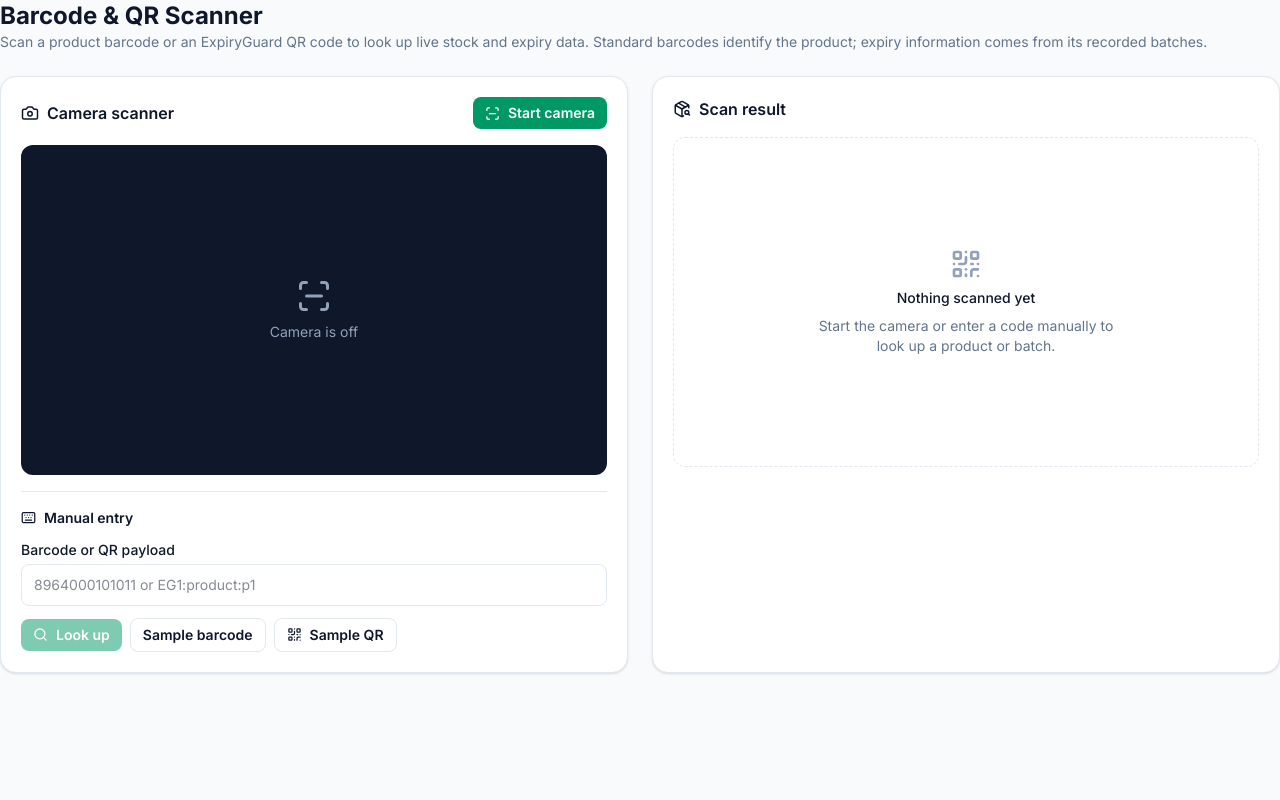
Test: ScannerPage › reports unknown barcodes clearly
Check: the text "Nothing scanned yet" is shown, box 897,288 -> 1035,308
Type "0000000000000" into the field labelled "Barcode or QR payload" at point(314, 585), box 21,564 -> 607,606
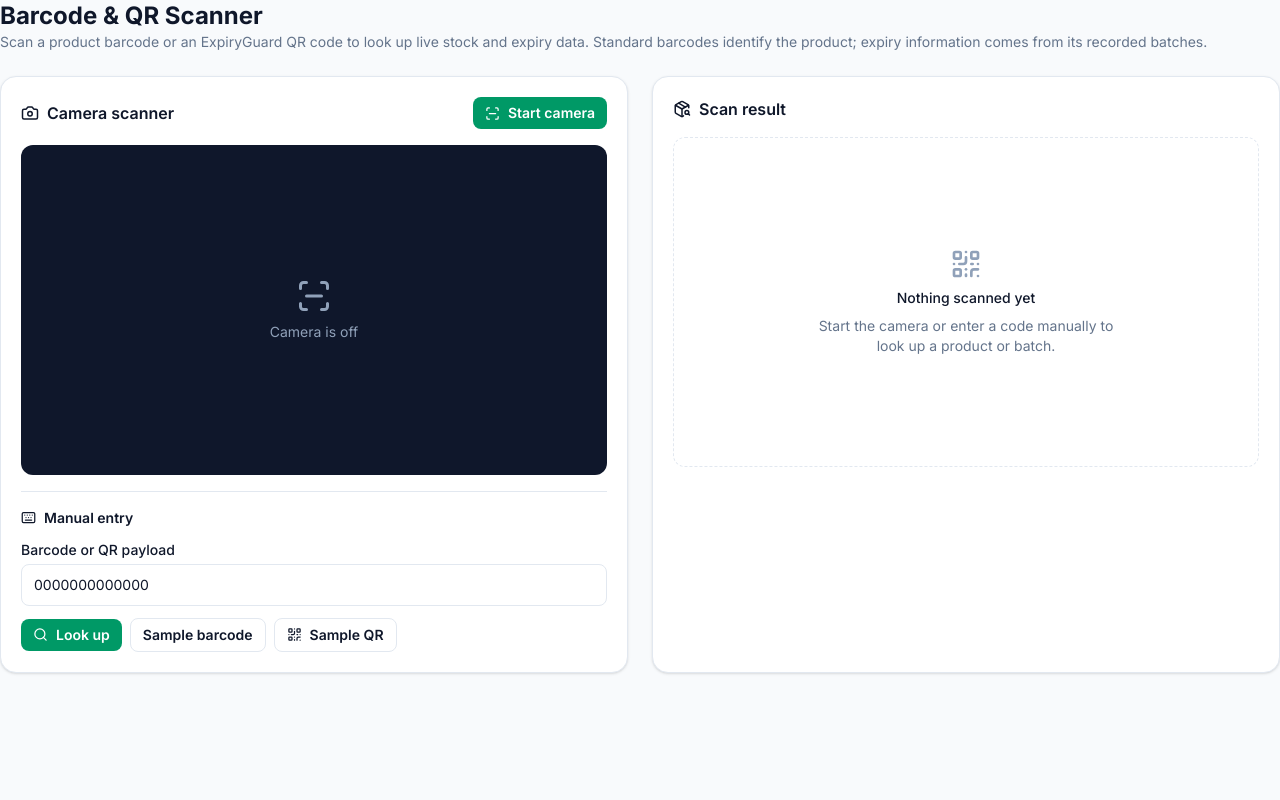
Click the button "Look up" at point(71, 635), box 21,619 -> 122,651
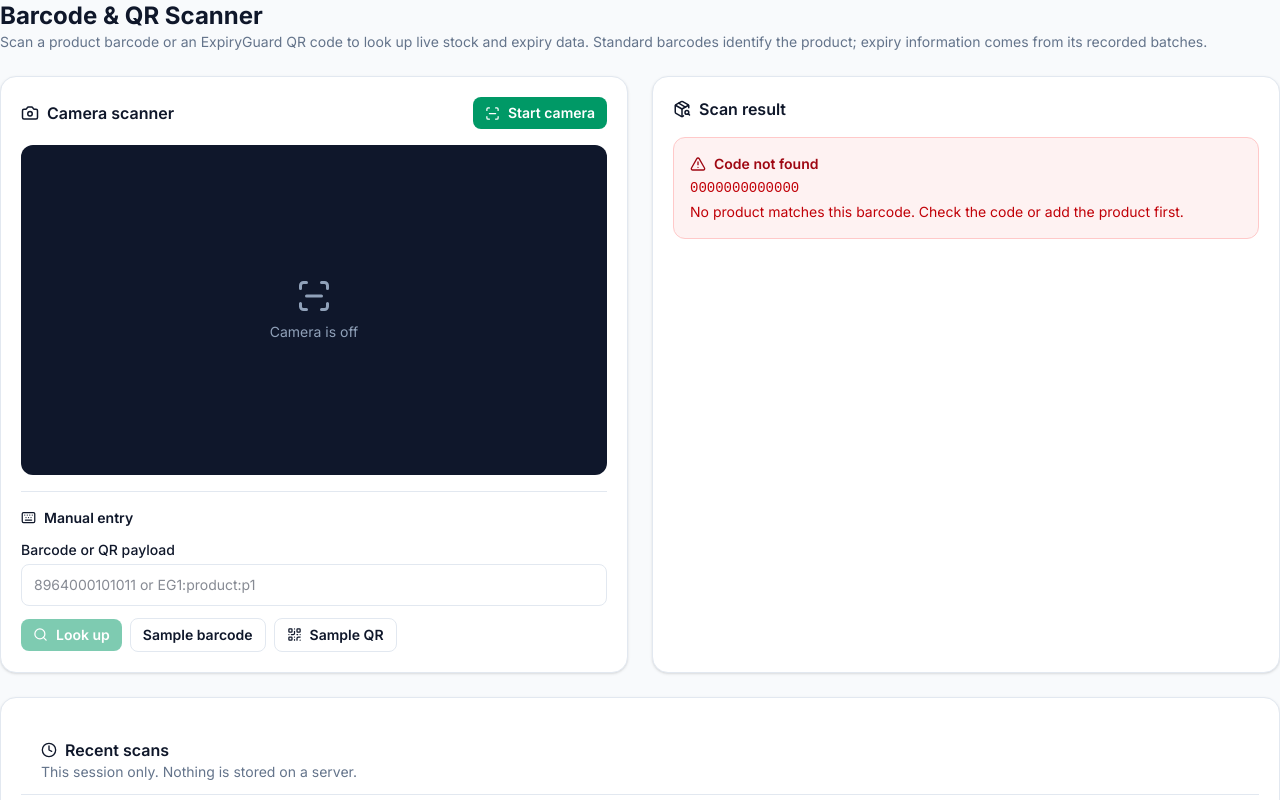
Check: the text "Code not found" is shown, box 690,155 -> 818,172
Check: the text "0000000000000" is shown, box 690,180 -> 799,196
